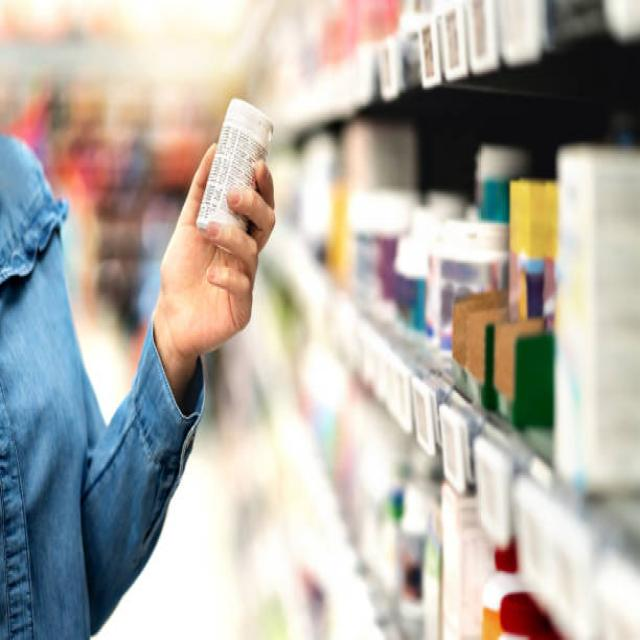article: (199, 99, 272, 229)
hands: (153, 144, 275, 399)
